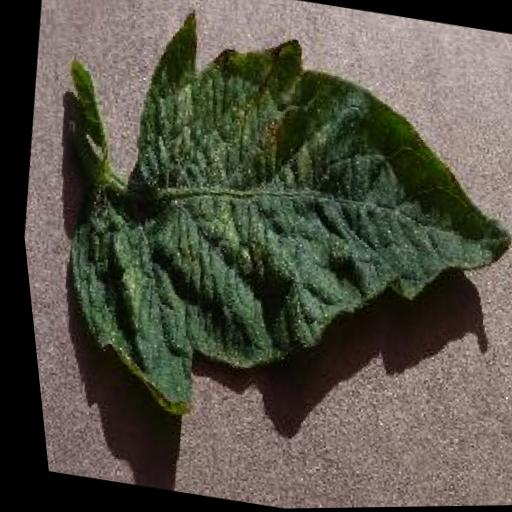Spider Mites: (20, 0, 512, 468)
